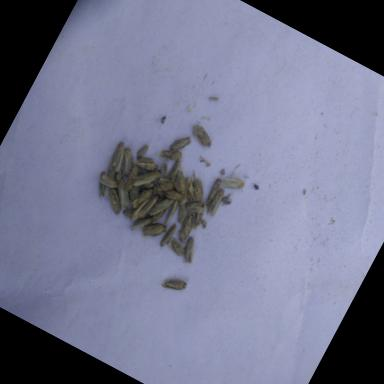pbw: (130, 160, 162, 194), (180, 170, 211, 202), (138, 216, 168, 246), (202, 185, 227, 219), (188, 121, 218, 149), (90, 169, 116, 201), (105, 140, 131, 172), (114, 146, 140, 177), (130, 180, 156, 210), (110, 178, 136, 208), (174, 211, 198, 243), (102, 187, 128, 216), (147, 192, 173, 220), (177, 235, 202, 264), (160, 272, 188, 297), (120, 162, 142, 192), (202, 176, 223, 207), (162, 236, 188, 261), (156, 143, 184, 166), (128, 195, 150, 224), (129, 211, 153, 237), (168, 130, 192, 156), (133, 151, 160, 174), (161, 196, 182, 225), (182, 194, 207, 218), (168, 166, 191, 192), (220, 172, 246, 194), (138, 192, 158, 220), (158, 220, 178, 246), (164, 158, 184, 184), (154, 175, 175, 195), (172, 201, 190, 224), (164, 186, 187, 204), (150, 201, 168, 224), (98, 174, 120, 192), (121, 203, 137, 219), (126, 186, 140, 203), (105, 164, 119, 180), (136, 140, 150, 156), (114, 169, 126, 182)
